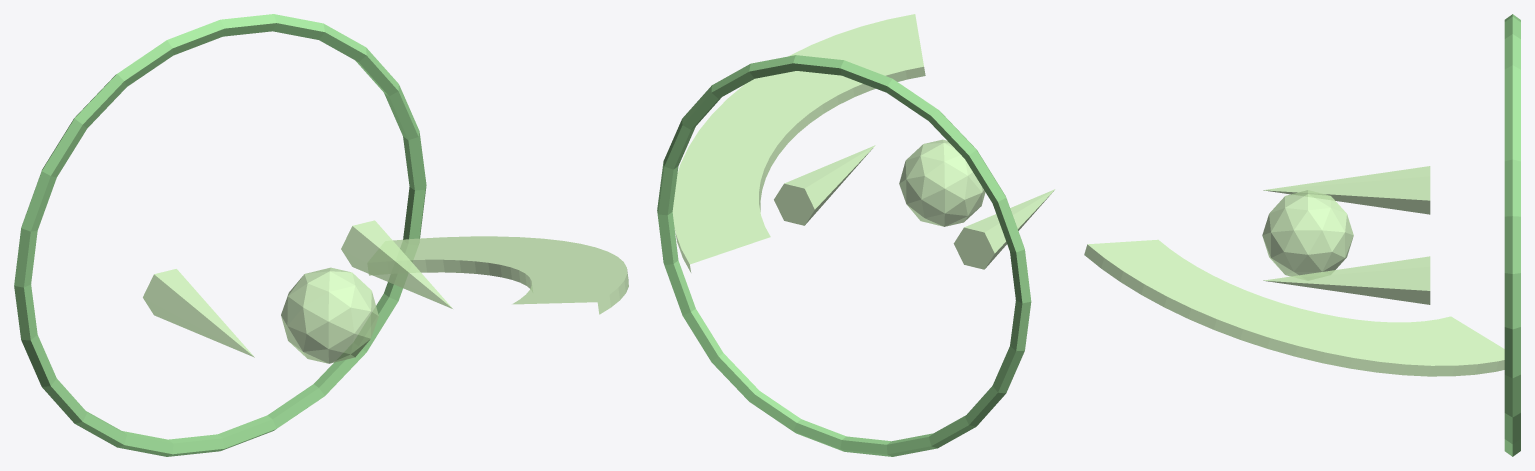
File: 01_special_attack_vfx.glb
The picture shows the model from 3 angles, left to right: view 1: azimuth 30°, elevation 25°; view 2: azimuth 150°, elevation 25°; view 3: azimuth 270°, elevation 25°; orthographic projection. The views are drawn at different scales.
Parts seen in each view (by area): view 1: impact_window_ring, combo_slash_or_magic_arc, timing_core, telegraph_spike_b, telegraph_spike_a; view 2: combo_slash_or_magic_arc, impact_window_ring, timing_core, telegraph_spike_b, telegraph_spike_a; view 3: combo_slash_or_magic_arc, impact_window_ring, timing_core, telegraph_spike_b, telegraph_spike_a.
Part boxes in pixels (bbox=[...]): impact_window_ring: bbox=[14, 14, 426, 456]; combo_slash_or_magic_arc: bbox=[368, 236, 628, 314]; timing_core: bbox=[281, 267, 378, 363]; telegraph_spike_b: bbox=[341, 220, 452, 308]; telegraph_spike_a: bbox=[143, 269, 254, 357]; combo_slash_or_magic_arc: bbox=[672, 14, 925, 272]; impact_window_ring: bbox=[657, 55, 1031, 456]; timing_core: bbox=[899, 139, 985, 226]; telegraph_spike_b: bbox=[774, 145, 875, 225]; telegraph_spike_a: bbox=[953, 189, 1055, 269]; combo_slash_or_magic_arc: bbox=[1084, 239, 1504, 376]; impact_window_ring: bbox=[1504, 14, 1520, 456]; timing_core: bbox=[1262, 190, 1353, 276]; telegraph_spike_b: bbox=[1263, 256, 1430, 304]; telegraph_spike_a: bbox=[1263, 166, 1430, 214].
Bounding box in the file's own units: 1.65 × 1.46 × 1.43.
